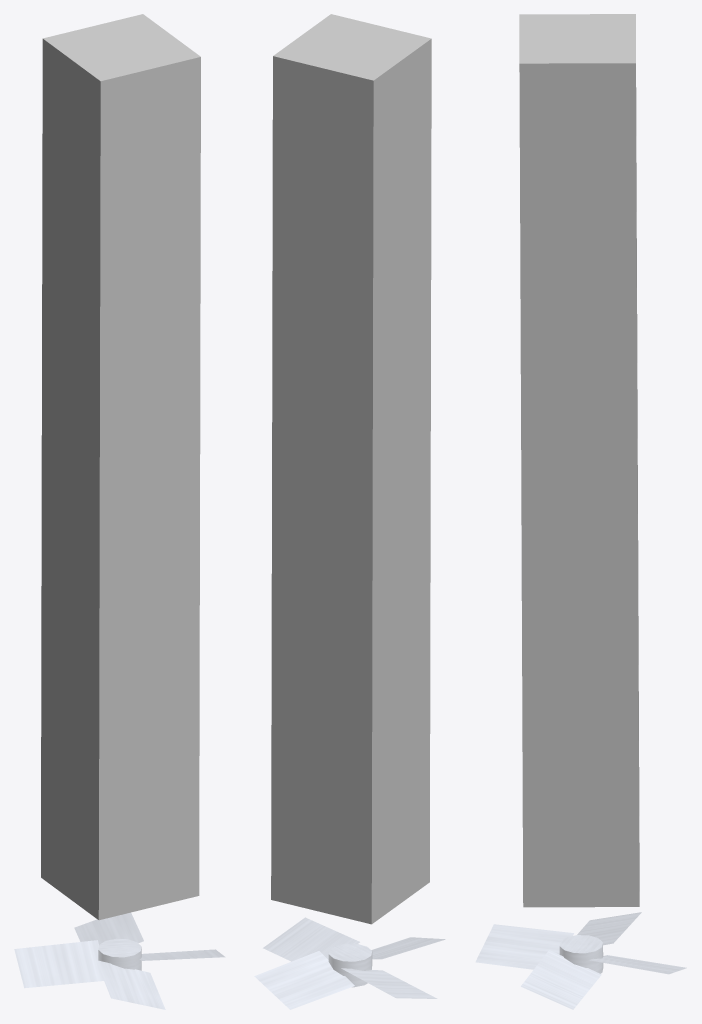
Rendered from level.gltf.
The picture shows the model from 3 angles, left to right: view 1: azimuth 30°, elevation 25°; view 2: azimuth 150°, elevation 25°; view 3: azimuth 270°, elevation 25°; orthographic projection.
Parts seen in each view (by area): view 1: P_Modul_18_Kollisionsquader, P_Modul_18_Rotor; view 2: P_Modul_18_Kollisionsquader, P_Modul_18_Rotor; view 3: P_Modul_18_Kollisionsquader, P_Modul_18_Rotor.
Part boxes in pixels (<box>): P_Modul_18_Kollisionsquader: <box>41,14,200,920</box>; P_Modul_18_Rotor: <box>14,912,225,1009</box>; P_Modul_18_Kollisionsquader: <box>271,14,431,924</box>; P_Modul_18_Rotor: <box>254,917,445,1009</box>; P_Modul_18_Kollisionsquader: <box>519,14,639,907</box>; P_Modul_18_Rotor: <box>475,912,686,1009</box>.
Bounding box in the file's own units: 3.65 × 17.66 × 3.65.
Materials: 1 (1 with a texture image).
